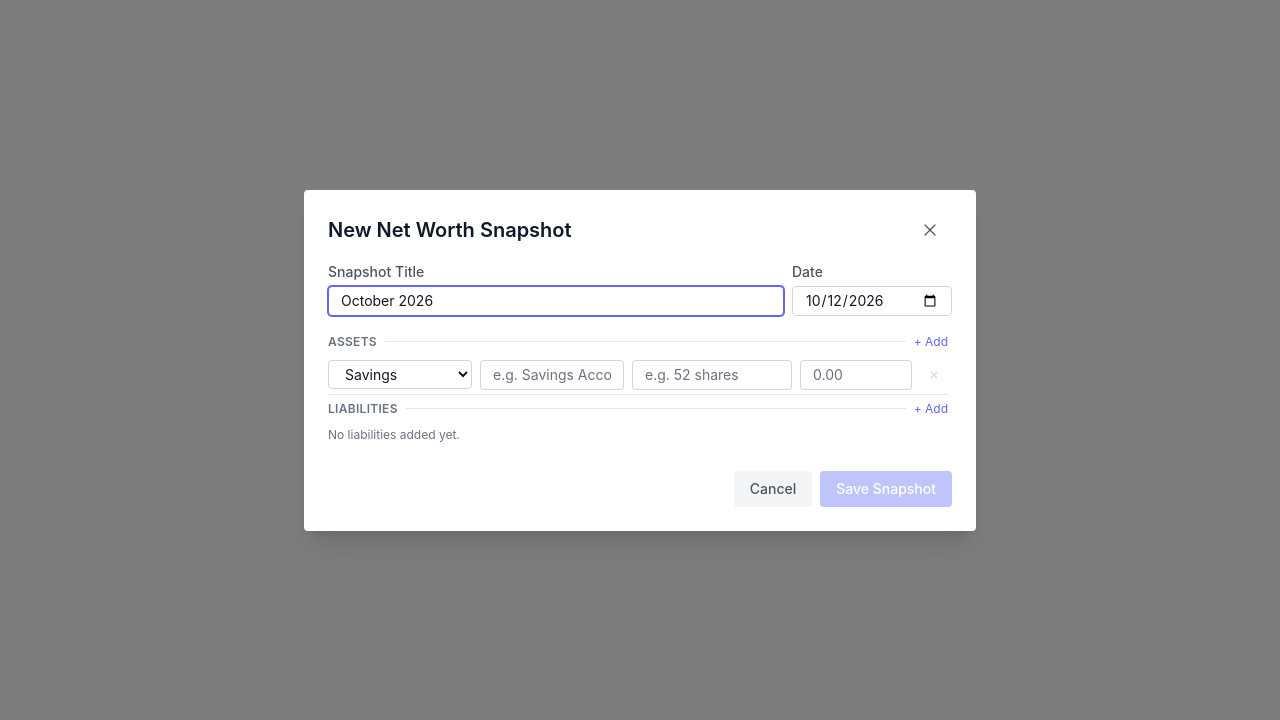
Test: NetWorthSnapshotModal › adds a new asset entry when the Assets + Add button is clicked
Step 1. Click the button "+ Add" in the row of "Assets" → point(931, 342), box [914,334,948,350]
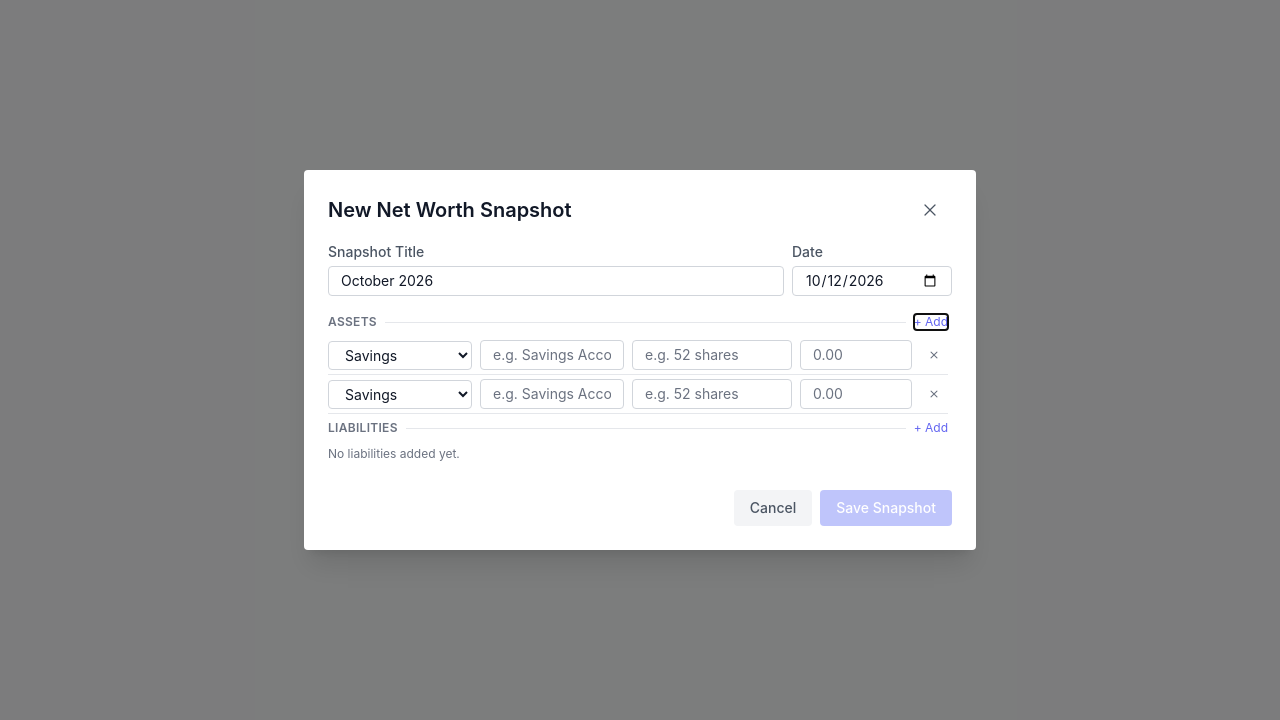
expect the number of fields with placeholder "e.g. Savings Account" is 2: met, box [480,340,624,370]; [480,379,624,409]
